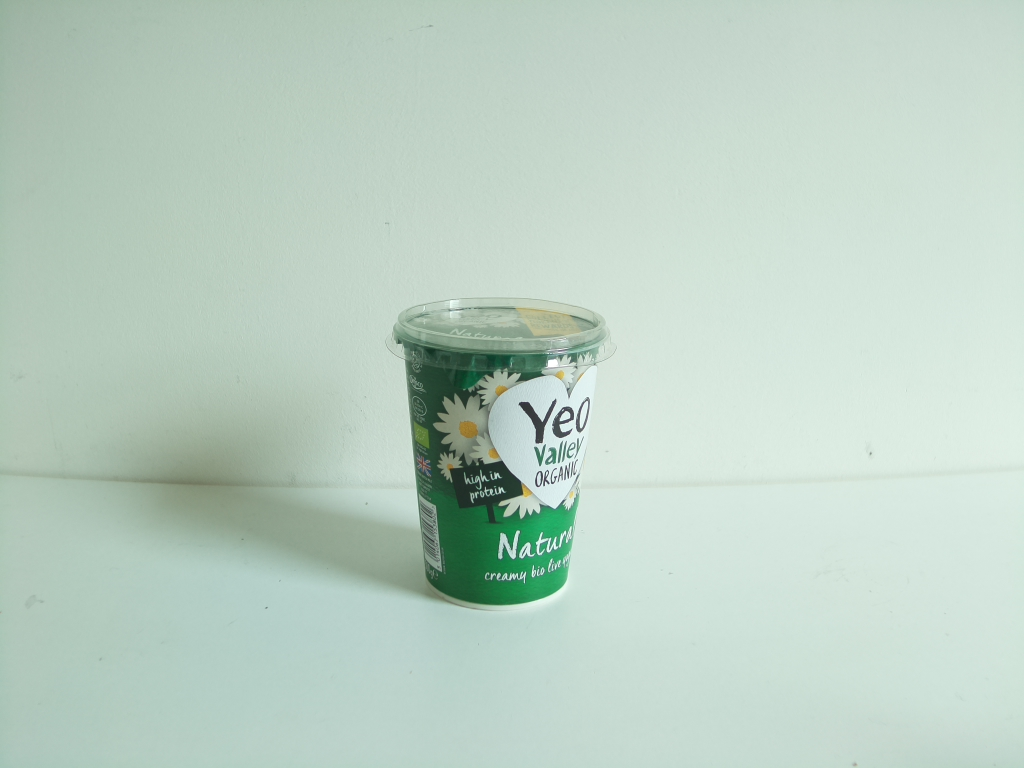yogurt: (387, 289, 619, 617)
